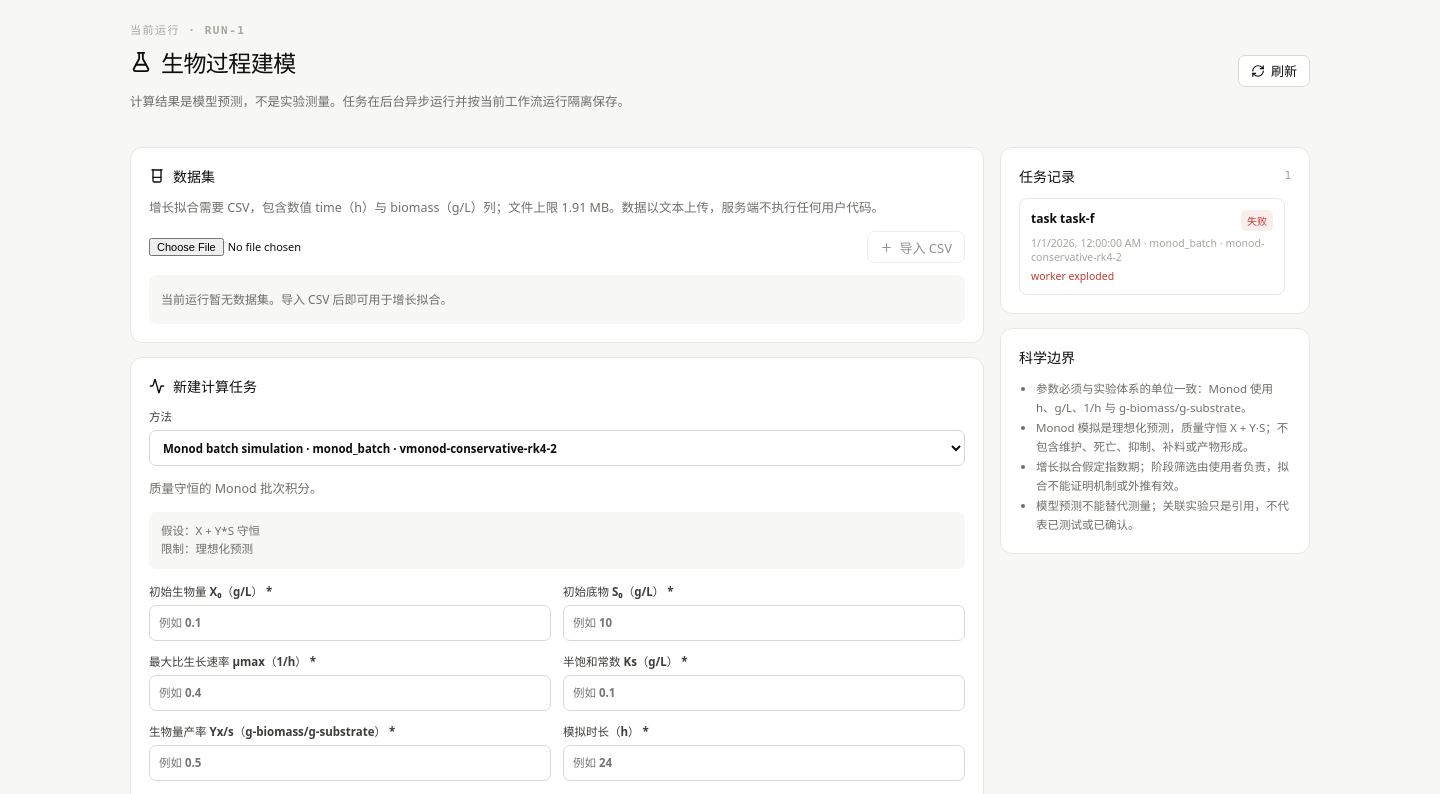
Test: ModelingWorkspace lifecycle regressions › shows a failed task error and never requests a result for it
This screenshot has width=1440, height=794.
Click the button that starts with "task task-f".
click(1152, 246)  # box x1=1019 y1=198 x2=1285 y2=295
(page scrolled)
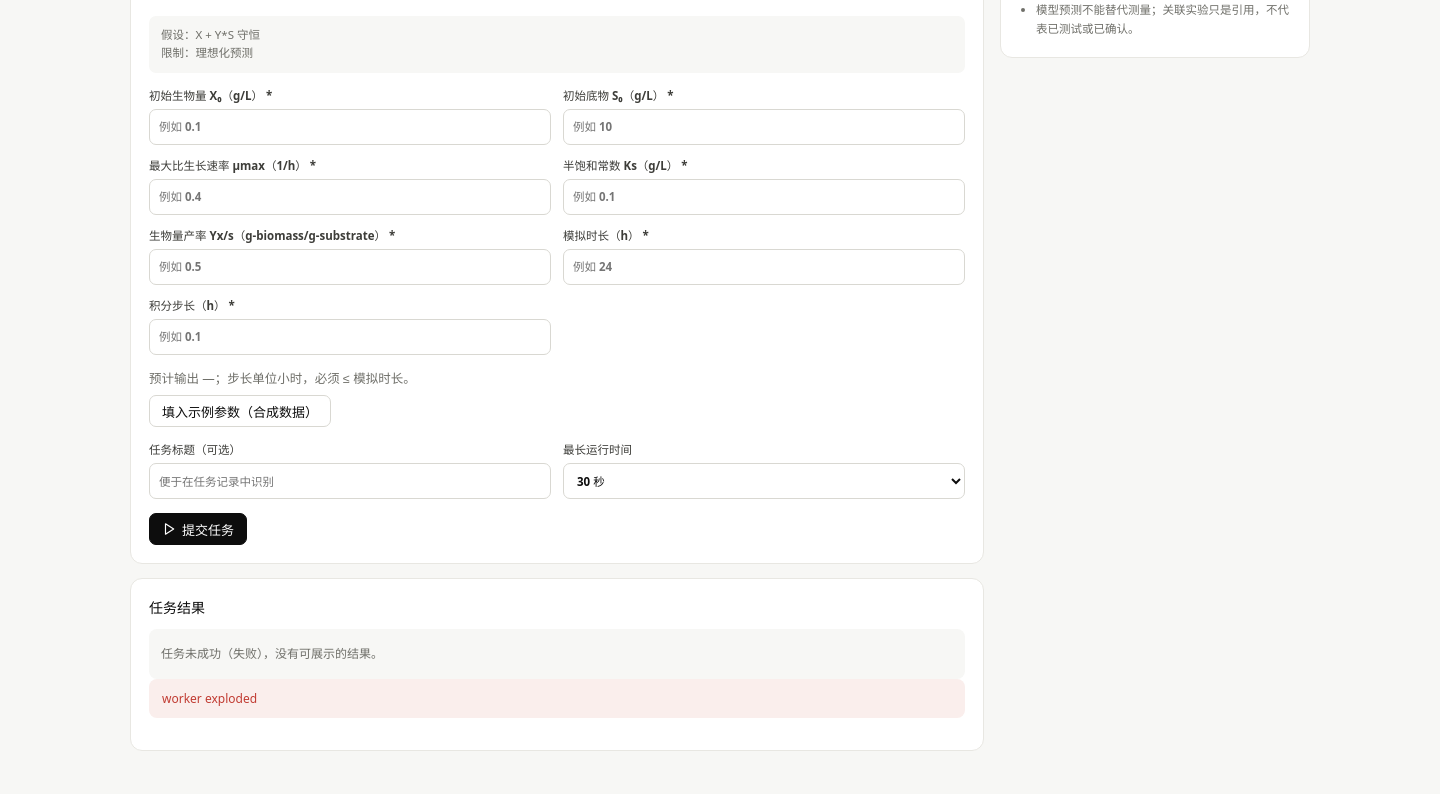
Expected: the text "worker exploded" is shown, x1=149 y1=679 x2=965 y2=718
Expected: the element with test id "modeling-result-status" shows "没有可展示的结果", x1=161 y1=646 x2=383 y2=662
